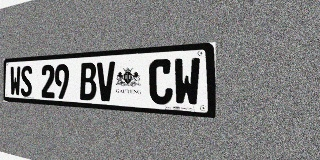2: (41, 64, 54, 98)
9: (55, 64, 69, 99)
B: (80, 62, 96, 101)
C: (149, 59, 173, 105)
S: (21, 65, 32, 97)
V: (97, 61, 115, 102)
W: (174, 57, 200, 107), (10, 66, 20, 96)
